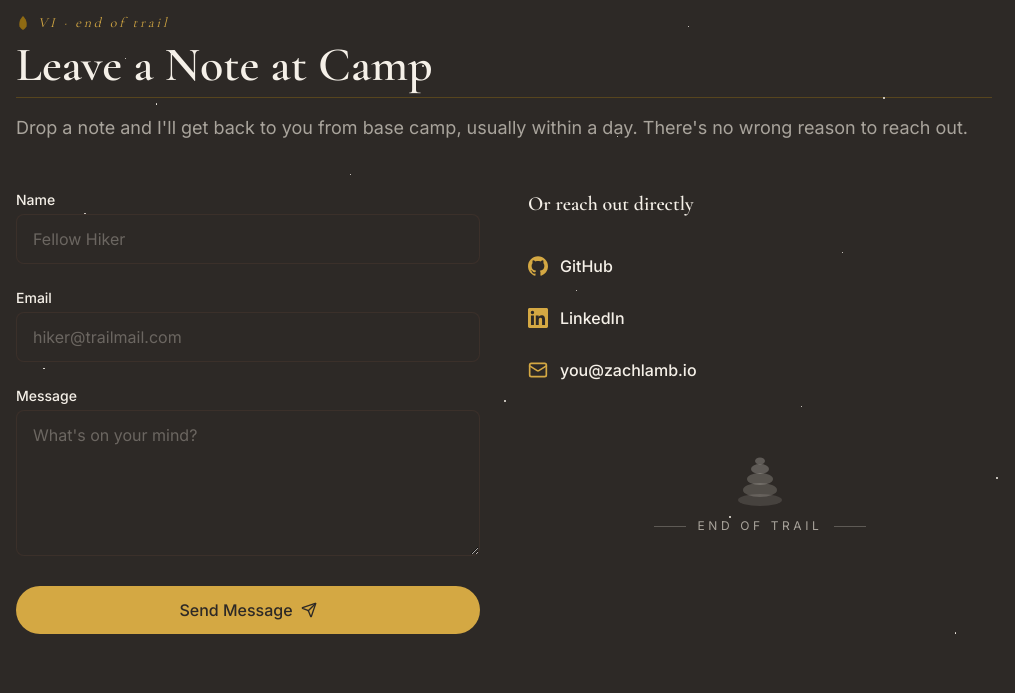
Test: Contact › shows fallback error message when API returns non-OK without error body
Type "Test" into the field labelled "Name" at (248, 239), box x1=16 y1=214 x2=480 y2=264
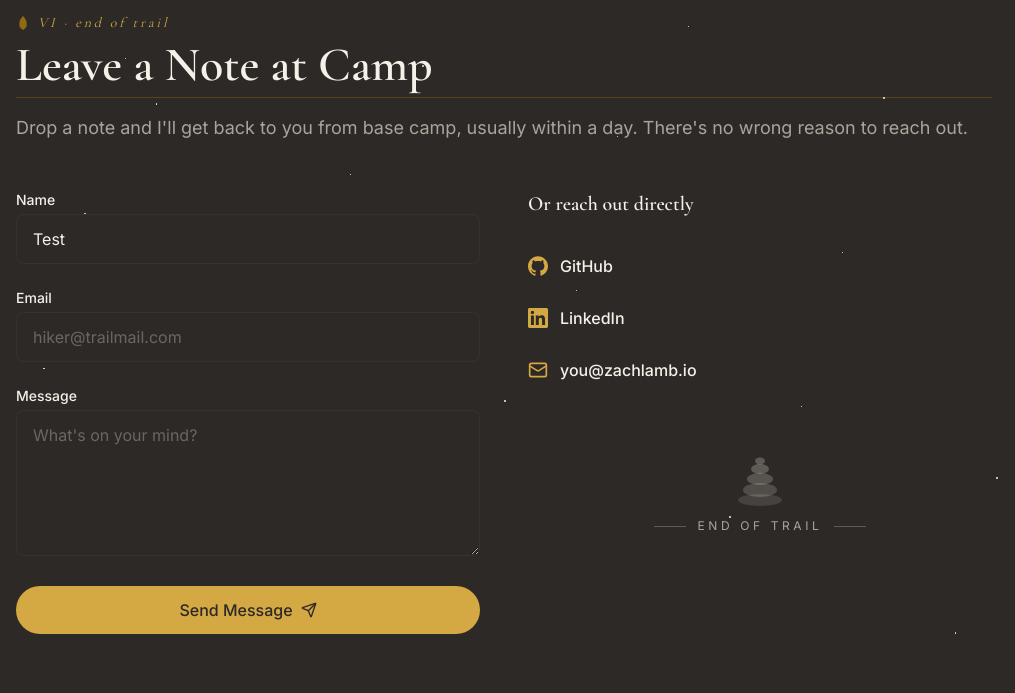
Type "test@test.com" into the field labelled "Email" at (248, 337), box x1=16 y1=312 x2=480 y2=362
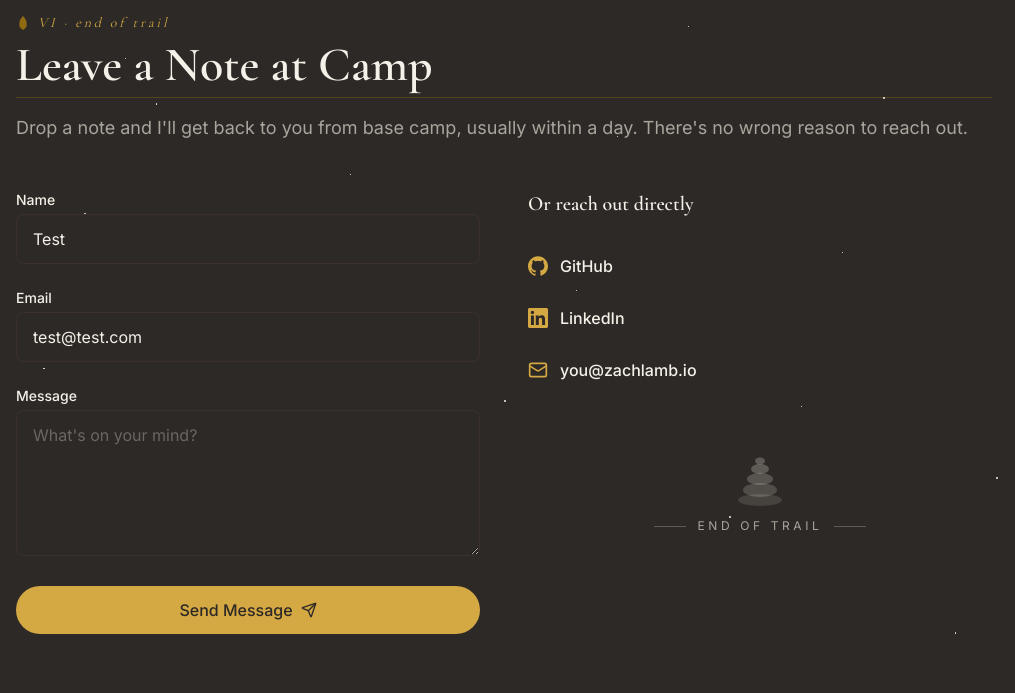
Type "Hello" into the text box labelled "Message" at (248, 483), box x1=16 y1=410 x2=480 y2=556
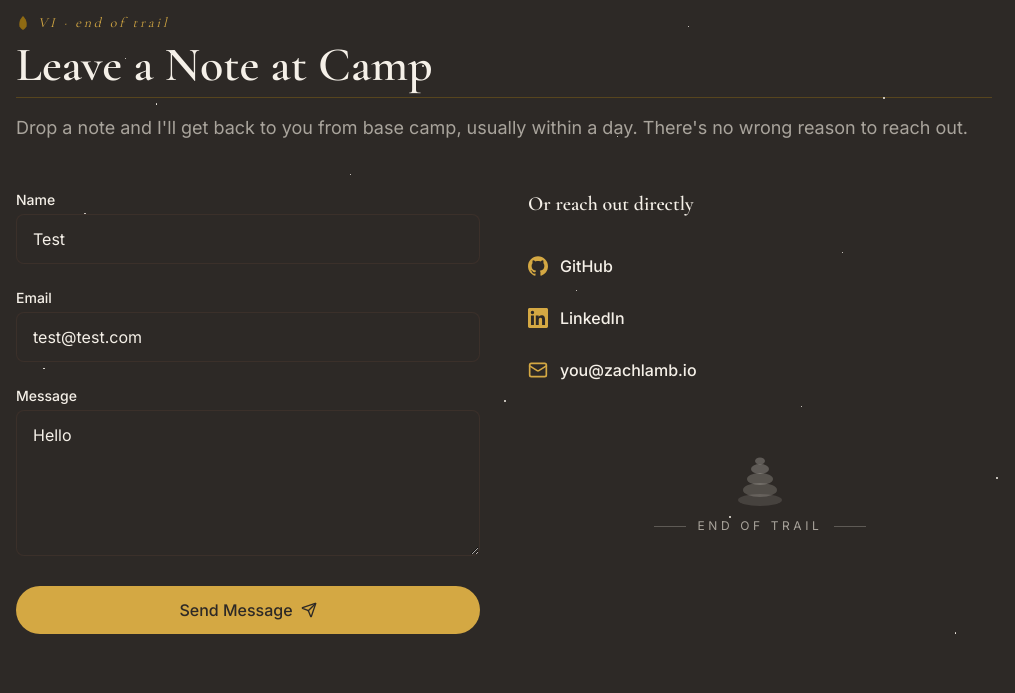
Submit the text "Send Message", box x1=16 y1=190 x2=480 y2=658
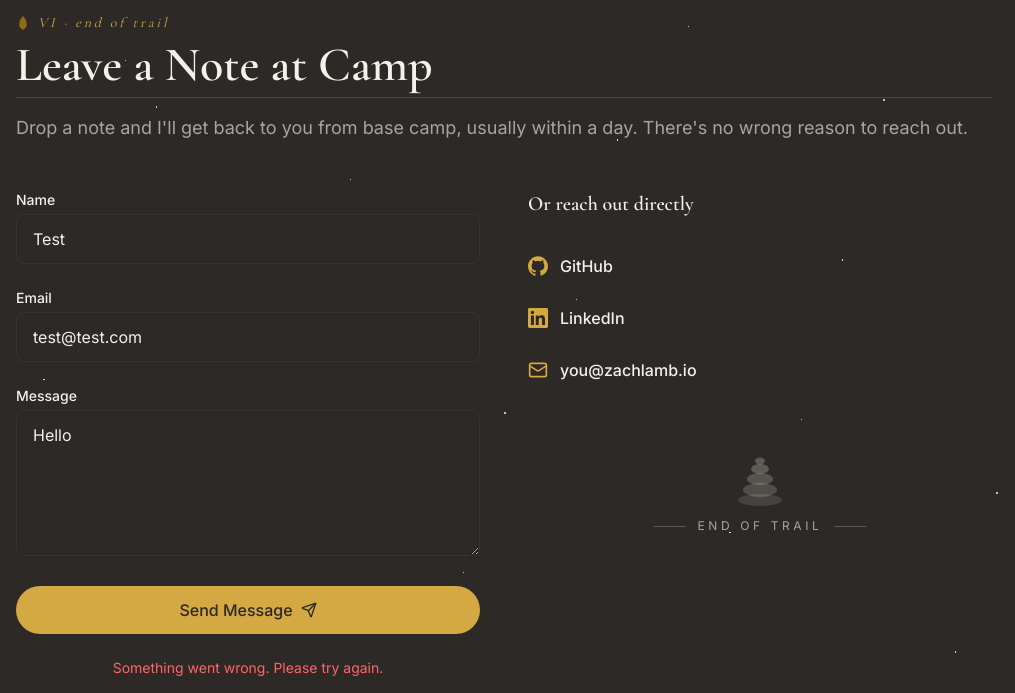
Expected: the text "Something went wrong. Please try again." is shown, x1=113 y1=659 x2=383 y2=676
